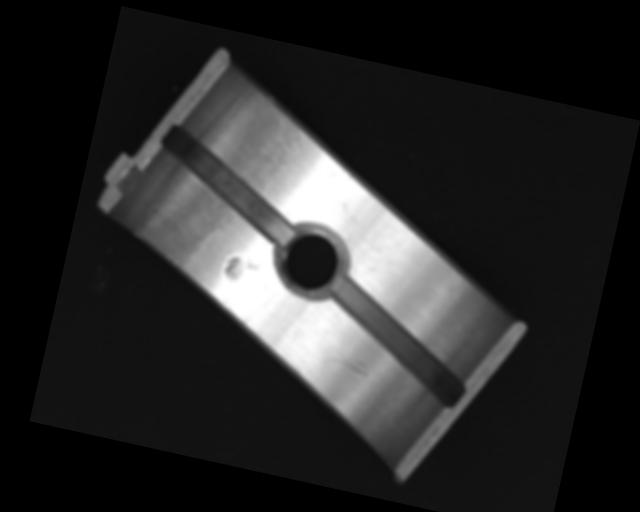bruise: (221, 253, 262, 287)
gap: (313, 273, 479, 409), (145, 124, 310, 247)
hole: (271, 218, 351, 305)
nick: (319, 350, 372, 378)
